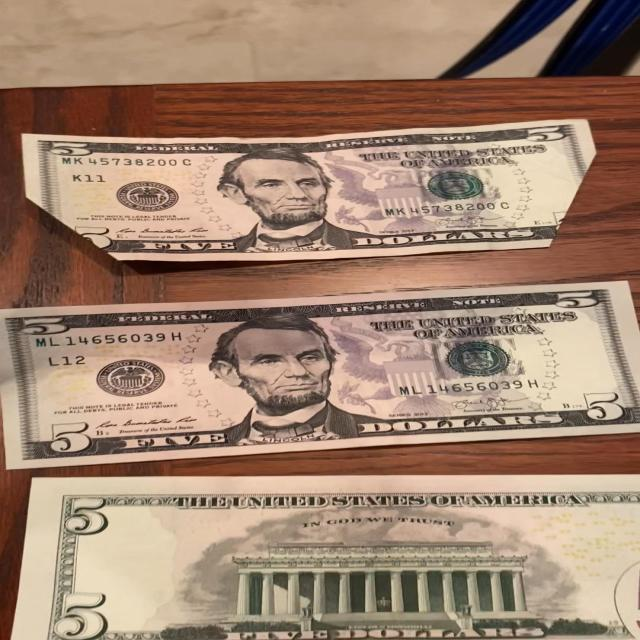5-Back: (2, 477, 640, 640)
5-Front: (0, 282, 640, 481), (0, 116, 612, 274)
